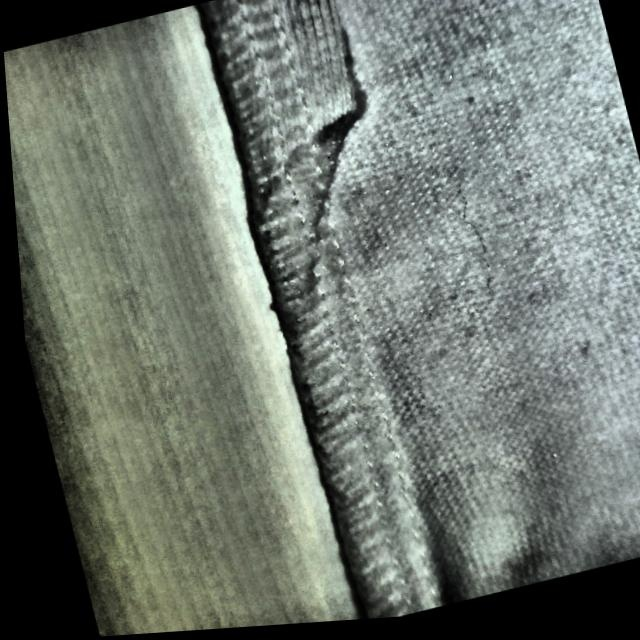seam: (181, 0, 425, 242)
